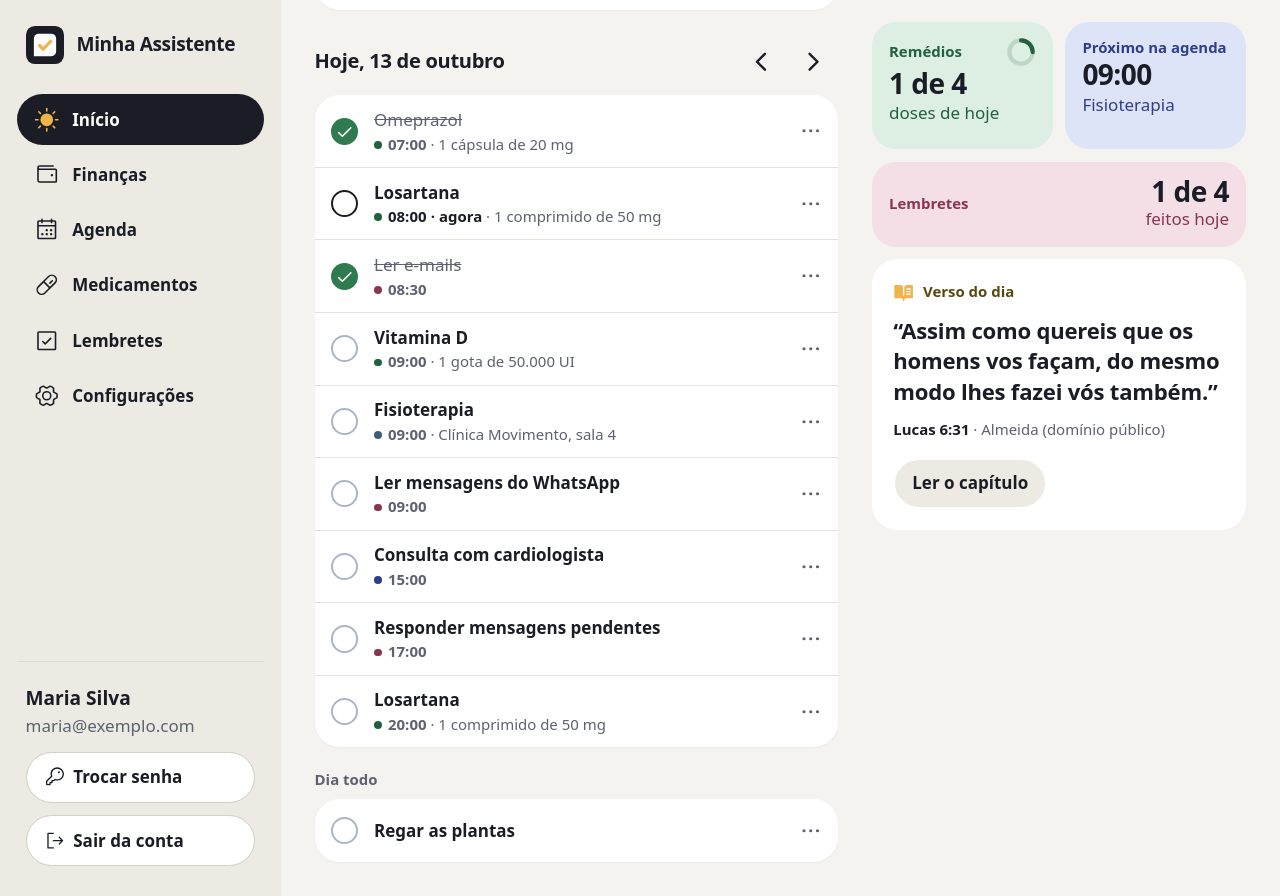
Scenario: tela Hoje: tarefas do dia › se a API recusar, a marcação volta atrás
(page scrolled)
Click the button named "Mais opções: Regar as plantas" at (810,831), box [787,807,834,854]
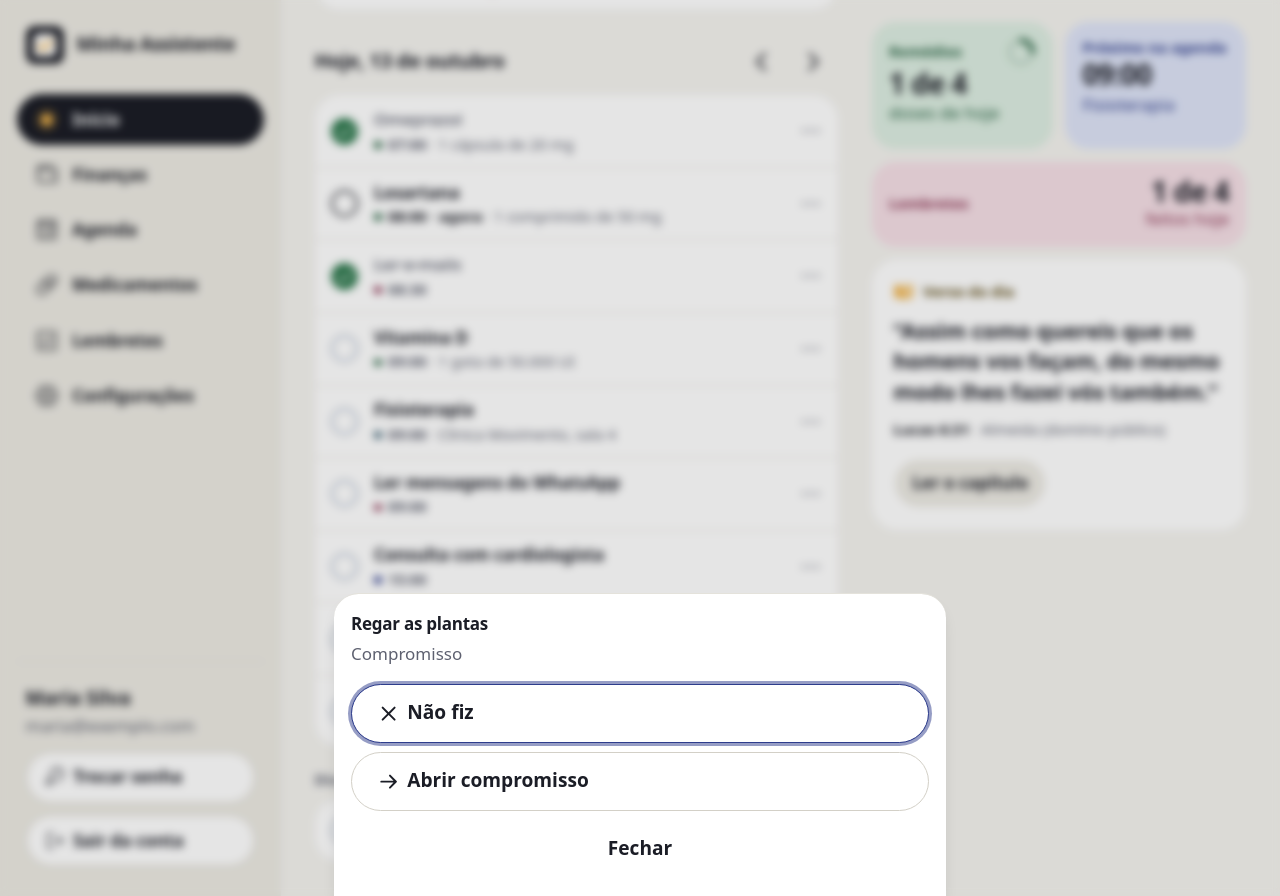
Click the button "Não fiz" at (440,712), box [351,684,929,743]
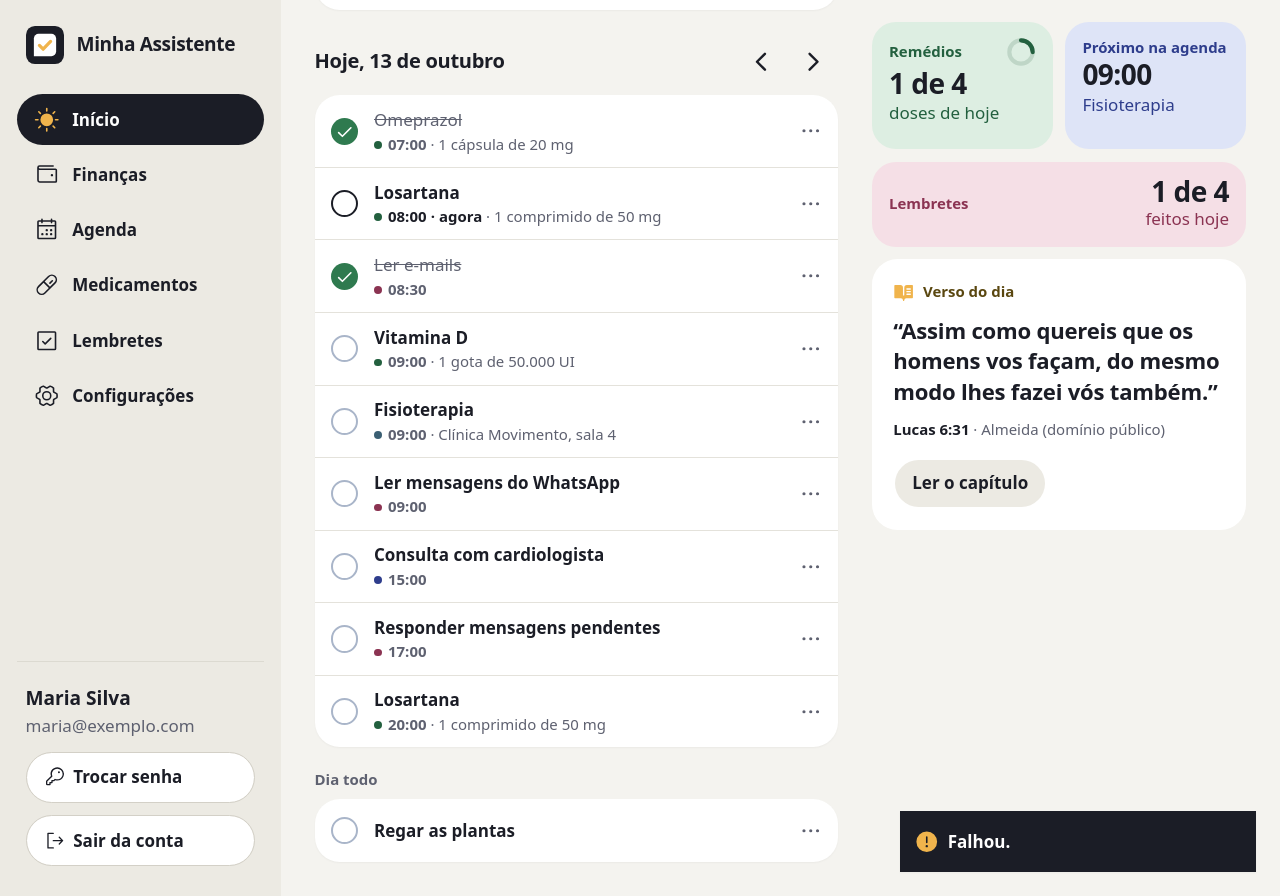
Check: the text "Falhou." is shown, box [948,828,1010,854]
